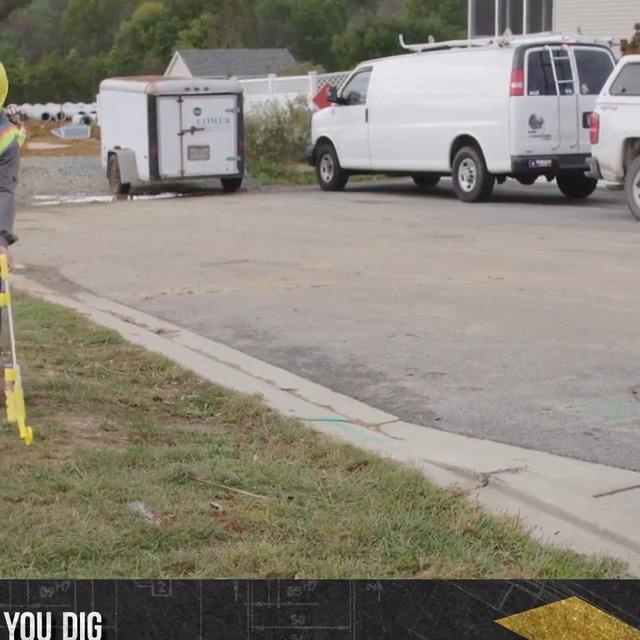Safety Vest: (0, 83, 25, 217)
trailer: (97, 75, 247, 197)
van: (306, 32, 619, 201)
